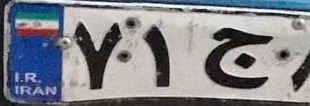character: (199, 18, 281, 97), (68, 16, 129, 94), (136, 17, 181, 93)
